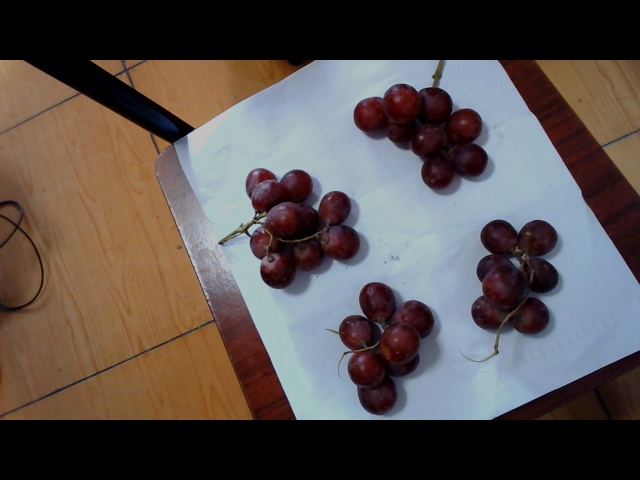grape: (350, 75, 486, 187), (320, 279, 433, 412), (231, 164, 361, 275), (467, 213, 564, 338)
